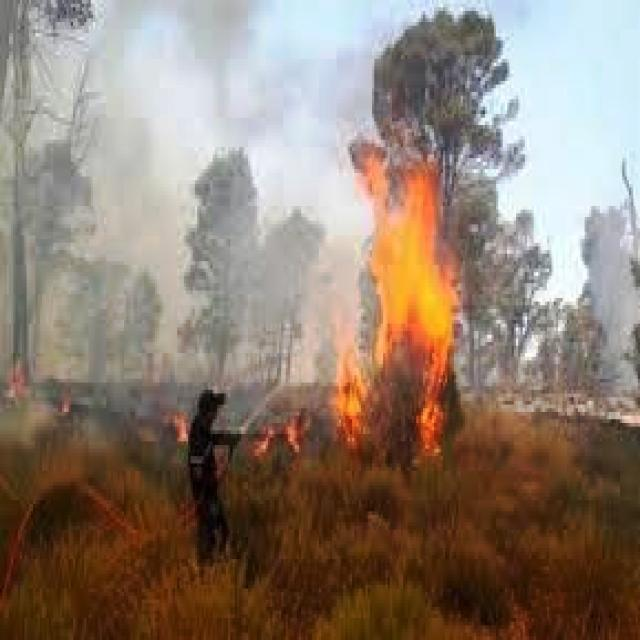api: (360, 154, 456, 369), (414, 361, 451, 457), (340, 349, 368, 444)
asap: (81, 8, 360, 148), (590, 206, 640, 419), (307, 231, 353, 351), (1, 386, 55, 453)
